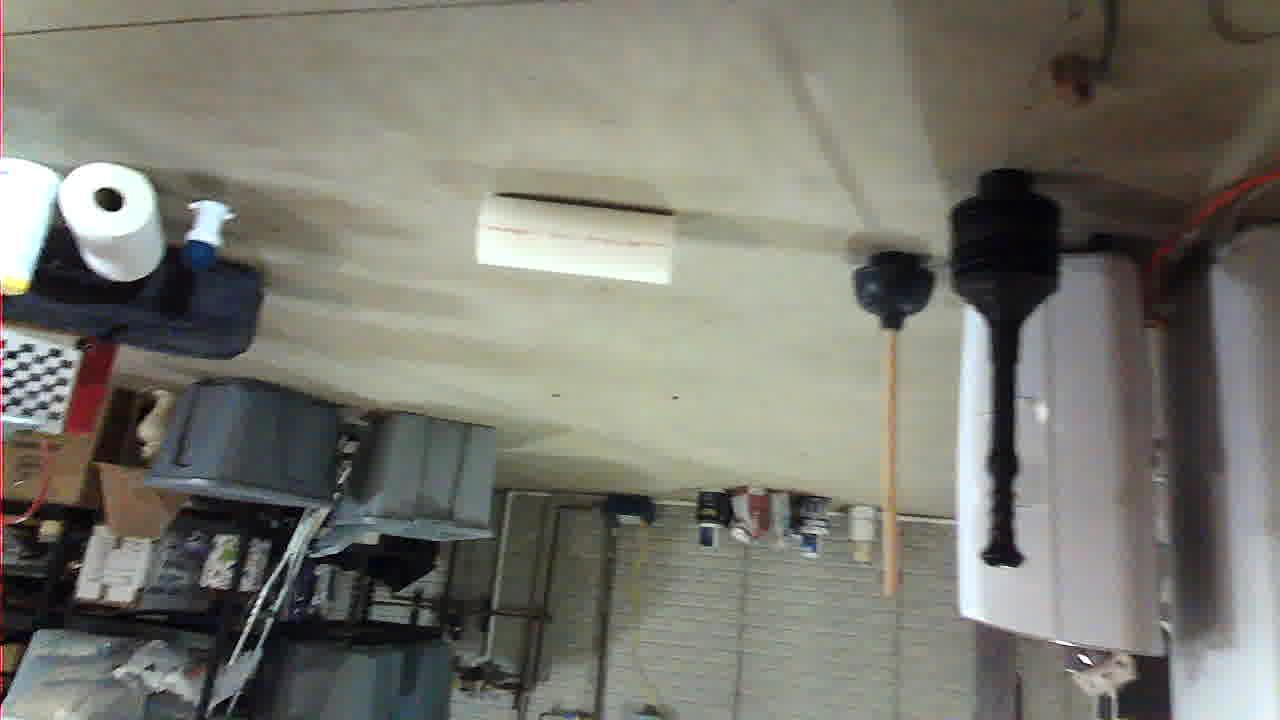coral: (609, 435, 803, 529)
